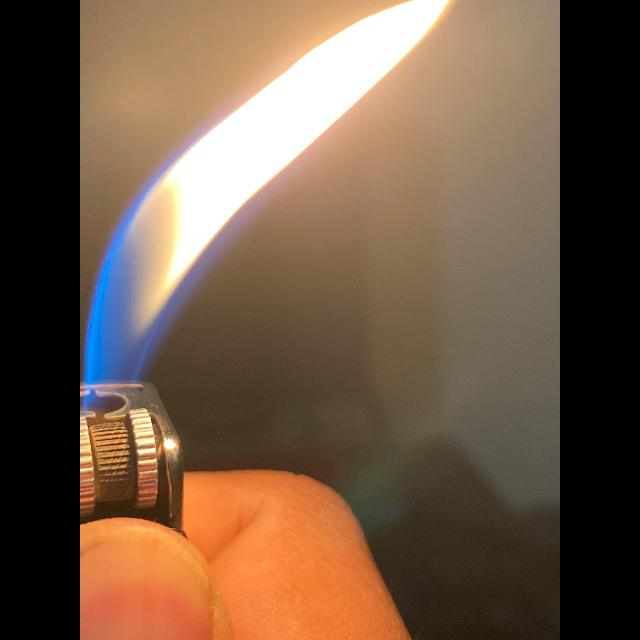fire: (85, 0, 449, 382)
